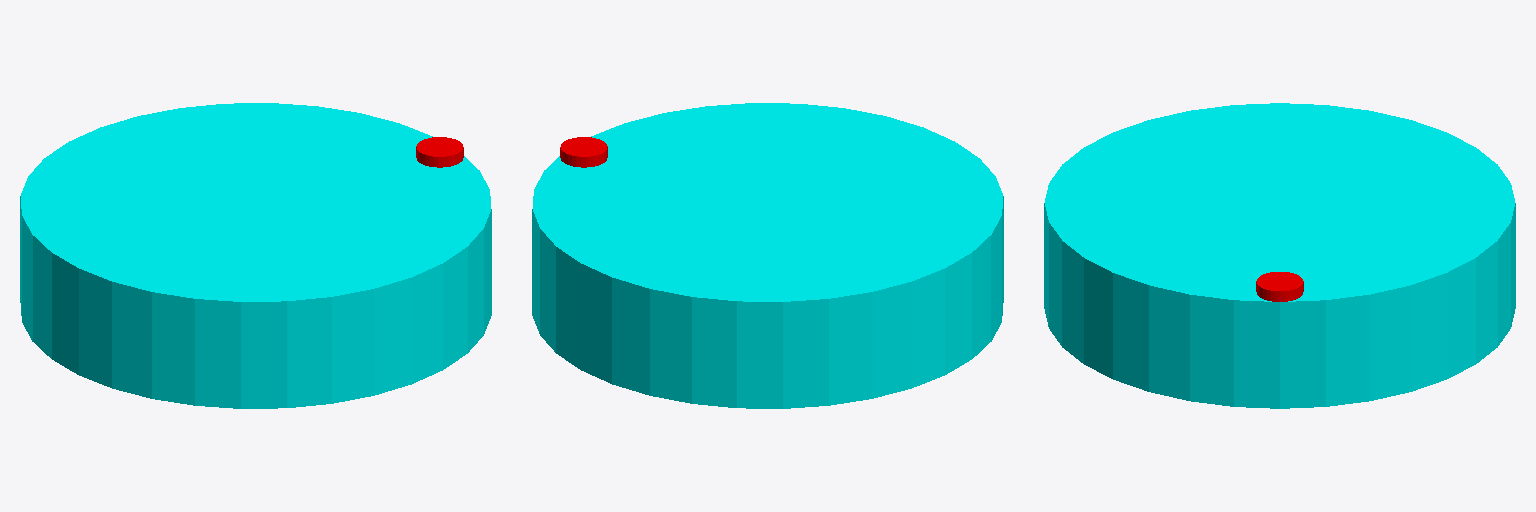
robot.urdf — Simple:
<?xml version="1.0" ?>
<!-- =================================================================================== -->
<!-- |    This document was autogenerated by xacro from hoge.urdf                      | -->
<!-- |    EDITING THIS FILE BY HAND IS NOT RECOMMENDED                                 | -->
<!-- =================================================================================== -->
<robot name="Simple" xmlns:controller="http://playerstage.sourceforge.net/gazebo/xmlschema/#controller" xmlns:interface="http://playerstage.sourceforge.net/gazebo/xmlschema/#interface" xmlns:sensor="http://playerstage.sourceforge.net/gazebo/xmlschema/#sensor">
  <link name="base_link"/>
  <link name="base_laser_link"/>
  <link name="main">
    <!-- main body -->
    <visual>
      <origin rpy="0 0 0" xyz="0 0 0"/>
      <geometry>
        <cylinder length="0.1" radius="0.2"/>
      </geometry>
      <material name="Cyan">
        <color rgba="0 1.0 1.0 1.0"/>
      </material>
    </visual>
    <visual>
      <origin rpy="0 0 0" xyz="0.18 0 0.055"/>
      <geometry>
        <cylinder length="0.01" radius="0.02"/>
      </geometry>
      <material name="Red">
        <color rgba="1.0 0.0 0.0 1.0"/>
      </material>
    </visual>
    <collision>
      <origin rpy="0 0 0" xyz="0 0 0"/>
      <geometry>
        <cylinder length="0.1" radius="0.2"/>
      </geometry>
    </collision>
    <inertial>
      <mass value="1.0"/>
      <origin rpy="0 0 0" xyz="0 0 0"/>
      <inertia ixx="0.1" ixy="0" ixz="0" iyy="0.1" iyz="0" izz="0.1"/>
    </inertial>
  </link>
  <joint name="fixed_base_link_to_main" type="fixed">
    <parent link="base_link"/>
    <child link="main"/>
    <origin rpy="0 0 0" xyz="0.0 0.0 0.05"/>
  </joint>
  <joint name="fixed_main_to_baselaser_link" type="fixed">
    <parent link="main"/>
    <child link="base_laser_link"/>
    <origin rpy="0 0 0" xyz="0.2 0.0 0.15"/>
  </joint>
  <!-- hokuyo -->
  <gazebo reference="base_laser_link">
    <sensor name="head_hokuyo_sensor" type="ray">
      <pose>0 0 0 0 0 0</pose>
      <visualize>false</visualize>
      <update_rate>40</update_rate>
      <ray>
        <scan>
          <horizontal>
            <samples>1000</samples>
            <resolution>1</resolution>
            <min_angle>-2.35619449</min_angle>
            <max_angle>2.35619449</max_angle>
          </horizontal>
        </scan>
        <range>
          <min>0.5</min>
          <max>30.0</max>
          <resolution>0.01</resolution>
        </range>
        <noise>
          <type>gaussian</type>
          <!--
                 Noise parameters based on published spec for Hokuyo laser
                 achieving "+-30mm" accuracy at range < 10m.  A mean of 0.0m and
                 stddev of 0.01m will put 99.7% of samples within 0.03m of the true
                 reading.
                 -->
          <mean>0.0</mean>
          <stddev>0.01</stddev>
        </noise>
      </ray>
      <plugin filename="libgazebo_ros_laser.so" name="gazebo_ros_head_hokuyo_controller">
        <topicName>scan</topicName>
        <frameName>base_laser_link</frameName>
      </plugin>
    </sensor>
  </gazebo>
  <!-- Base control -->
  <gazebo>
    <!--plugin filename="libgazebo_ros_planar_force_move.so" name="cmd_vel_controller"-->
    <plugin filename="libgazebo_ros_planar_move.so" name="cmd_vel_controller">
      <commandTopic>cmd_vel</commandTopic>
      <odometryTopic>gz_odom</odometryTopic>
      <odometryFrame>gz_odom</odometryFrame>
      <odometryRate>40.0</odometryRate>
      <robotBaseFrame>gz_base_link</robotBaseFrame>
      <useForceFeedback>true</useForceFeedback>
      <appliedForceLink>base_link</appliedForceLink>
      <forceGainX>24000</forceGainX>
      <forceGainY>24000</forceGainY>
      <forceGainRot>6000</forceGainRot>
    </plugin>
  </gazebo>
</robot>

--- Facts derived from the render (not from the file) ---
Views: 3 orthographic renders of the robot side by side, from view 1: azimuth 30°, elevation 25°; view 2: azimuth 150°, elevation 25°; view 3: azimuth 270°, elevation 25°.
Robot: Simple — 3 links, 2 joints (2 fixed); root link base_link; default pose: every joint at zero.
Links seen in each view (by area): view 1: main; view 2: main; view 3: main.
Boxes of the visible links, <box> form: main: <box>20,103,491,408</box>; main: <box>532,103,1003,408</box>; main: <box>1044,103,1515,408</box>.
Bounding box of the posed robot: 0.4 × 0.4 × 0.11 m (x, y, z).
Geometry: primitives only (box / cylinder / sphere), no mesh files.
